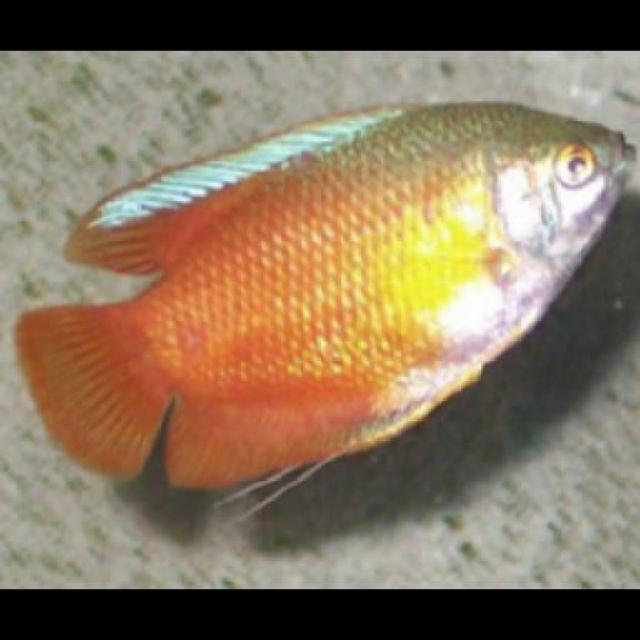Gourami: (14, 92, 638, 525)
